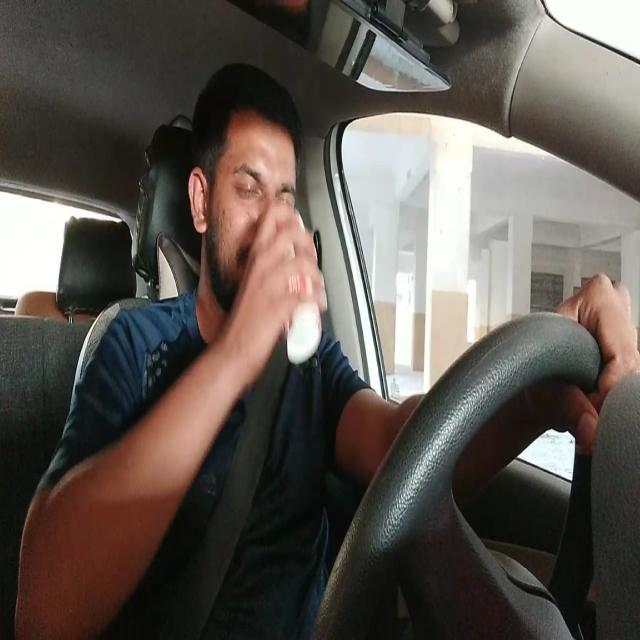Drinking: (188, 105, 326, 365)
